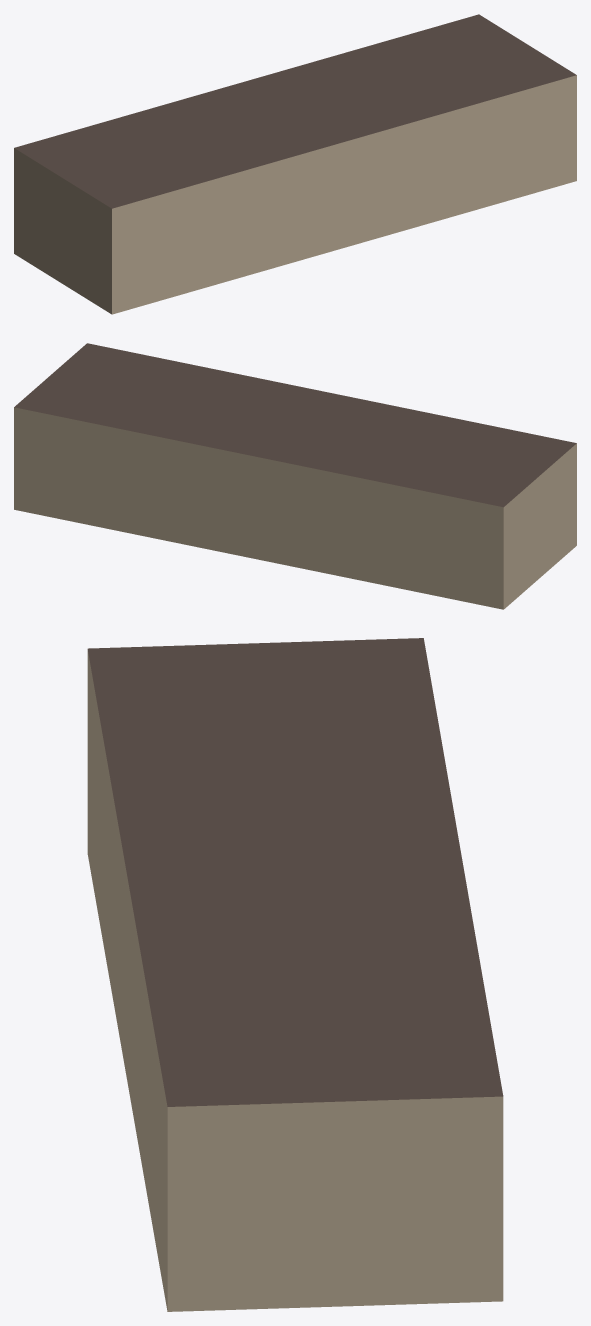
3 renders of one model, top to bottom at view 1: azimuth 30°, elevation 25°; view 2: azimuth 150°, elevation 25°; view 3: azimuth 270°, elevation 25°, orthographic. The views are drawn at different scales.
Visible parts, largest first — view 1: HP-w859457401; view 2: HP-w859457401; view 3: HP-w859457401.
Part boxes in pixels (x1,y1,x2,y2): HP-w859457401: (14,14,576,314); HP-w859457401: (14,343,576,609); HP-w859457401: (87,638,503,1311).
Size of the model in its own units: 44.18 by 9 by 16.55.
